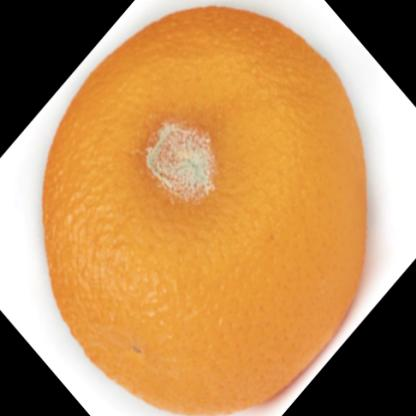rotten: (44, 9, 368, 416)
